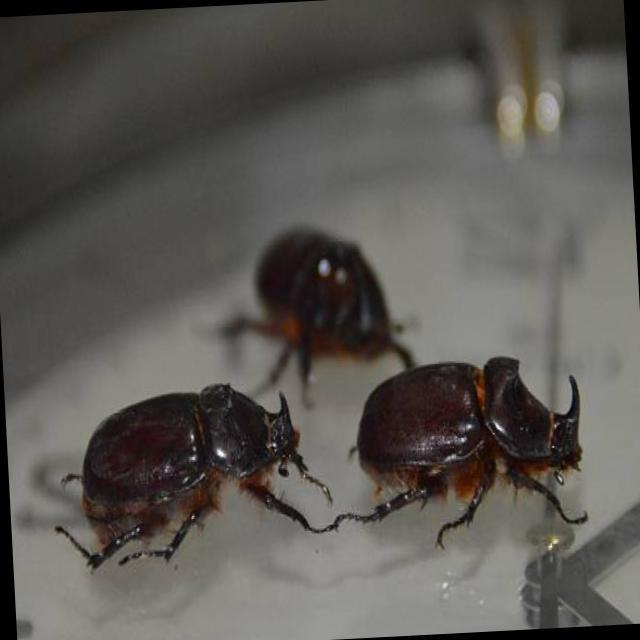Rhino-beetle: (36, 378, 320, 568), (348, 364, 614, 528), (225, 216, 413, 358)
